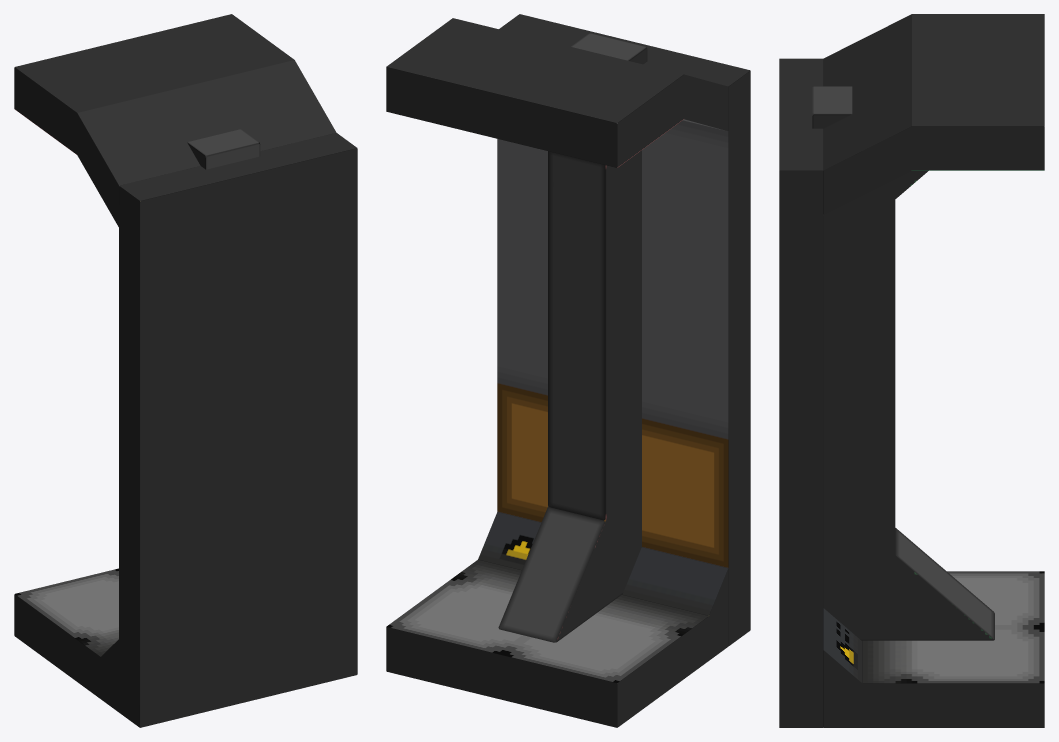
Rendered from ShipWallPillarOrange.obj.
3 views of the same model, side by side, from view 1: azimuth 30°, elevation 25°; view 2: azimuth 150°, elevation 25°; view 3: azimuth 270°, elevation 25° (orthographic). The views are drawn at different scales.
Parts seen in each view (by area): view 1: ShipWall, cuboid; view 2: ShipWall, cuboid; view 3: ShipWall, cuboid.
Boxes of the visible parts, x1,y1,x2,y2 form: ShipWall: [14, 14, 357, 727]; cuboid: [187, 129, 260, 169]; ShipWall: [386, 14, 750, 727]; cuboid: [498, 33, 647, 642]; ShipWall: [779, 14, 1044, 727]; cuboid: [812, 86, 994, 640].
Bounding box in the file's own units: 1 × 2.5 × 1.
2 materials, 2 textured.
